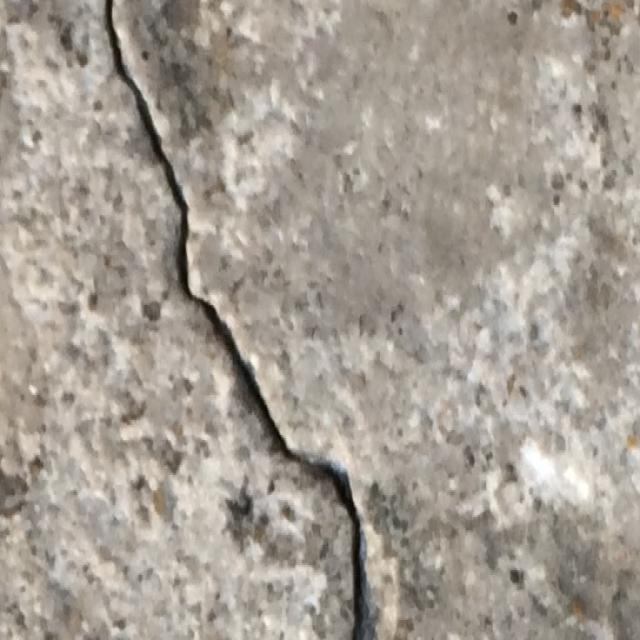Diagonal: (186, 298, 286, 450)
Longitudinal: (80, 0, 229, 294), (291, 438, 381, 640)
